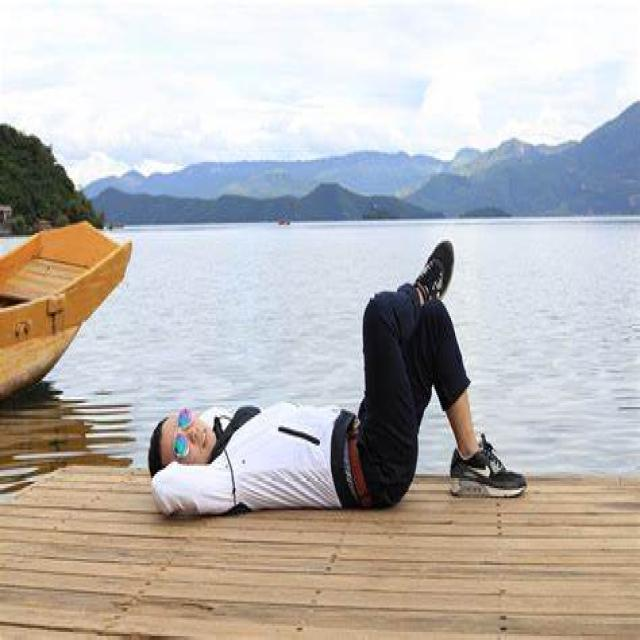lie: (127, 367, 524, 515)
